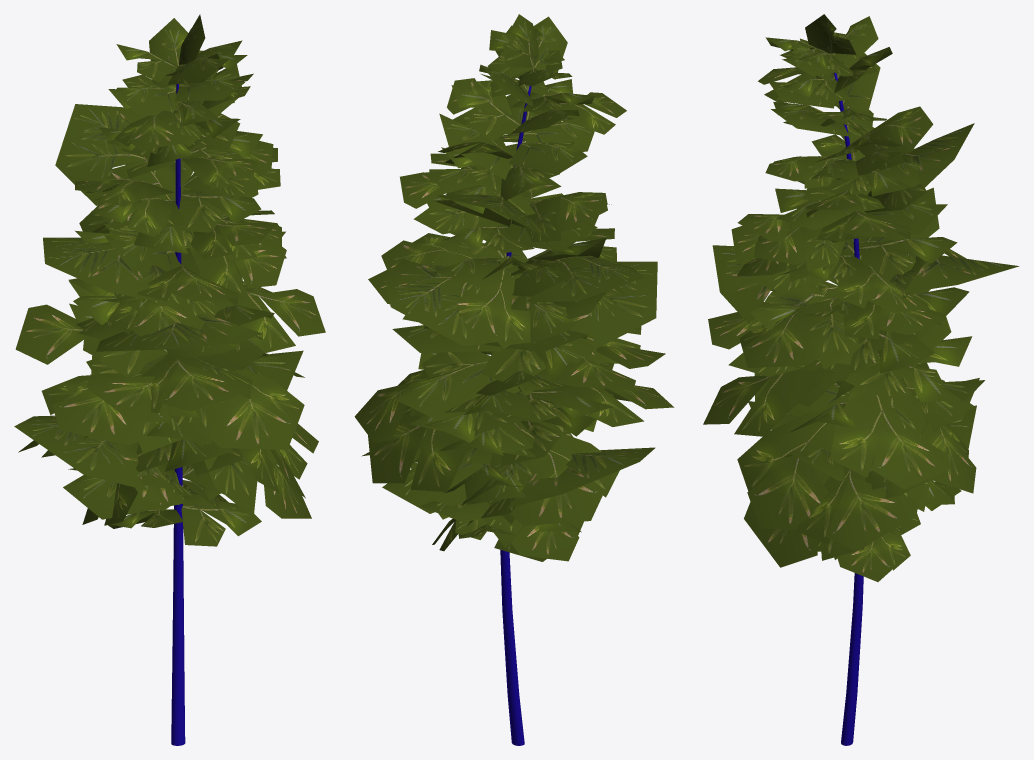
The model's file is Bamboo_B.fbx.
3 renders of one model, left to right at view 1: azimuth 30°, elevation 25°; view 2: azimuth 150°, elevation 25°; view 3: azimuth 270°, elevation 25°, orthographic. The views are drawn at different scales.
Parts seen in each view (by area): view 1: Geometry_Bamboo_B_LOD00; view 2: Geometry_Bamboo_B_LOD00; view 3: Geometry_Bamboo_B_LOD00.
Part boxes in pixels (bbox=[...]): Geometry_Bamboo_B_LOD00: bbox=[14, 14, 325, 745]; Geometry_Bamboo_B_LOD00: bbox=[354, 14, 674, 745]; Geometry_Bamboo_B_LOD00: bbox=[703, 14, 1019, 745].
Size of what is drawn, in the model's own units: 158 by 384 by 150.
